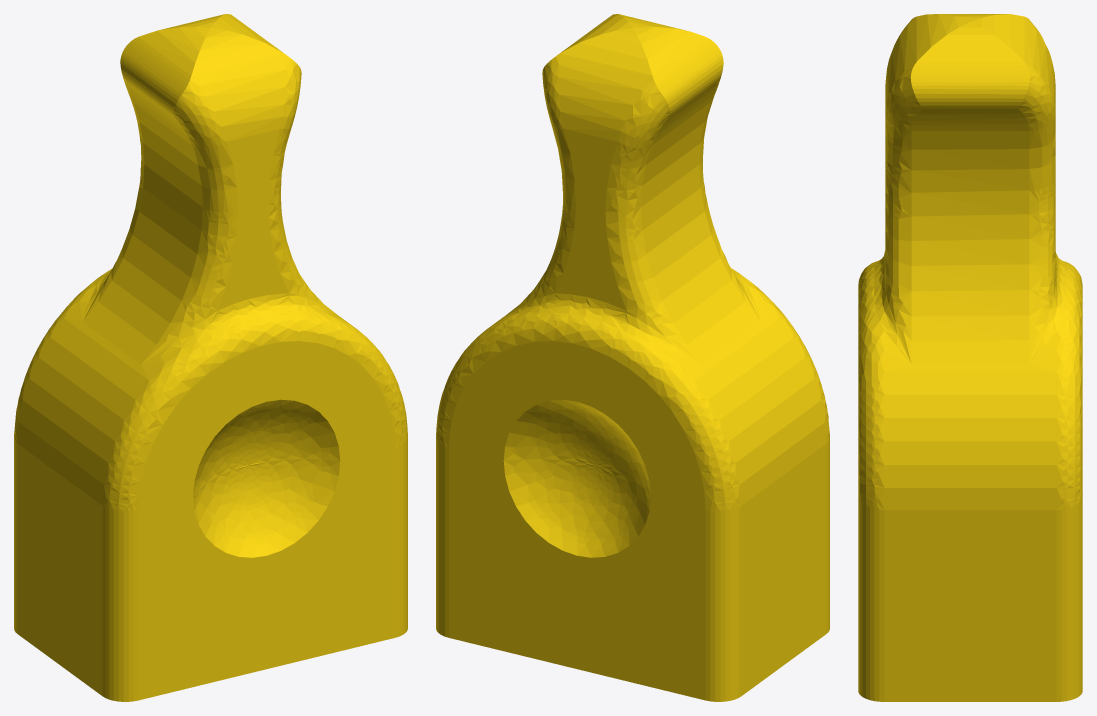
3 renders of one model, left to right at view 1: azimuth 30°, elevation 25°; view 2: azimuth 150°, elevation 25°; view 3: azimuth 270°, elevation 25°, orthographic.
Visible parts, largest first — view 1: 10000267; view 2: 10000267; view 3: 10000267.
Boxes of the visible parts, x1,y1,x2,y2 form: 10000267: [14, 14, 407, 701]; 10000267: [436, 14, 829, 701]; 10000267: [858, 14, 1082, 701].
Size of the model in its own units: 0.5257 by 1 by 0.336.
